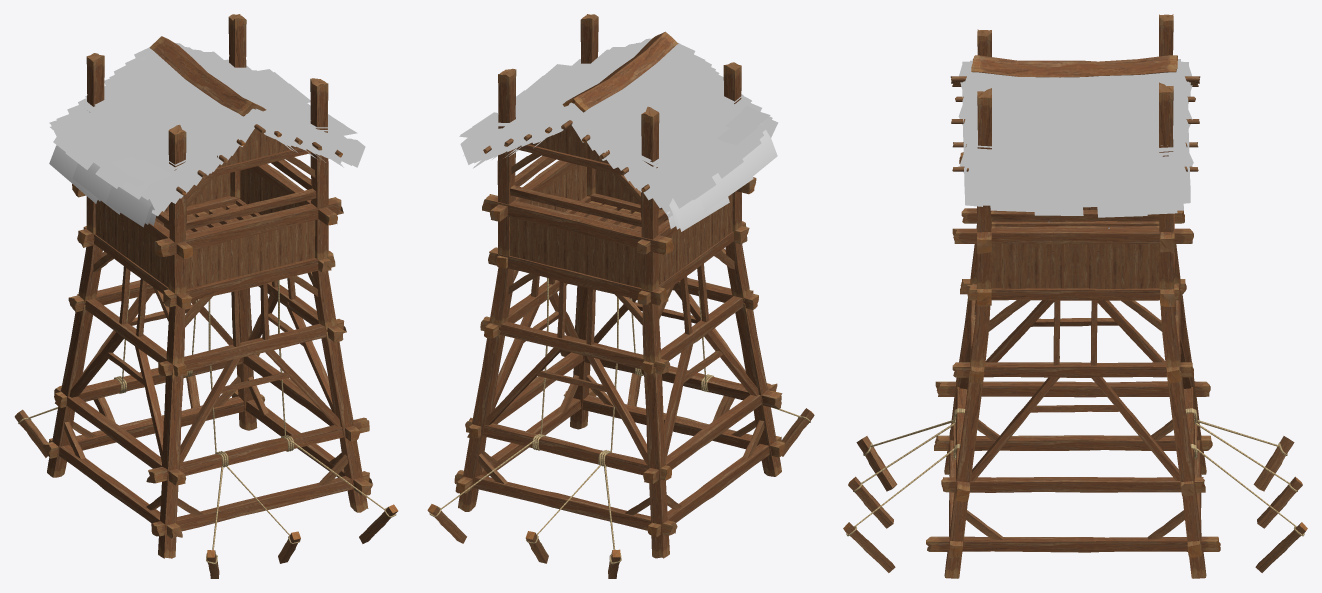
Rendered from SM_Farm_Watchtower.fbx.
The picture shows the model from 3 angles, left to right: view 1: azimuth 30°, elevation 25°; view 2: azimuth 150°, elevation 25°; view 3: azimuth 270°, elevation 25°; orthographic projection. The views are drawn at different scales.
Parts seen in each view (by area): view 1: SM_Farm_Watchtower_01_LOD0; view 2: SM_Farm_Watchtower_01_LOD0; view 3: SM_Farm_Watchtower_01_LOD0.
Part boxes in pixels (bbox=[...]): SM_Farm_Watchtower_01_LOD0: bbox=[14, 14, 398, 578]; SM_Farm_Watchtower_01_LOD0: bbox=[427, 14, 814, 578]; SM_Farm_Watchtower_01_LOD0: bbox=[843, 14, 1307, 578].
Bounding box in the file's own units: 476 × 870 × 755.
